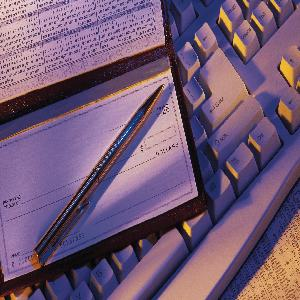pen: (32, 80, 168, 271)
